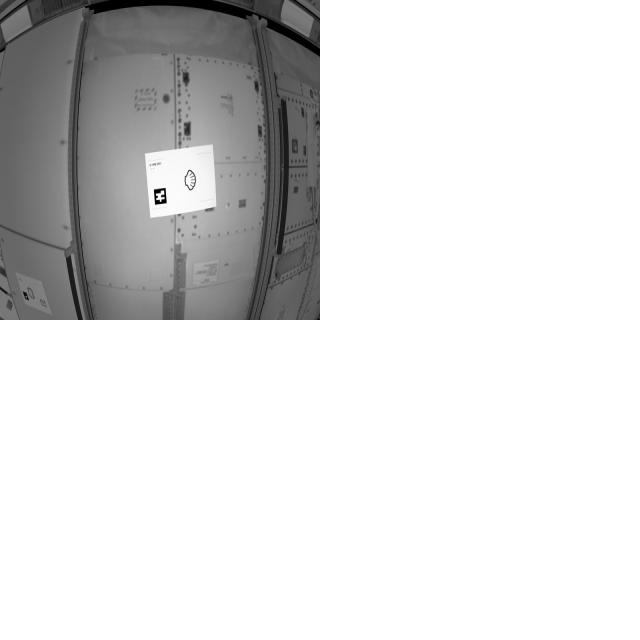shell: (182, 165, 199, 193)
